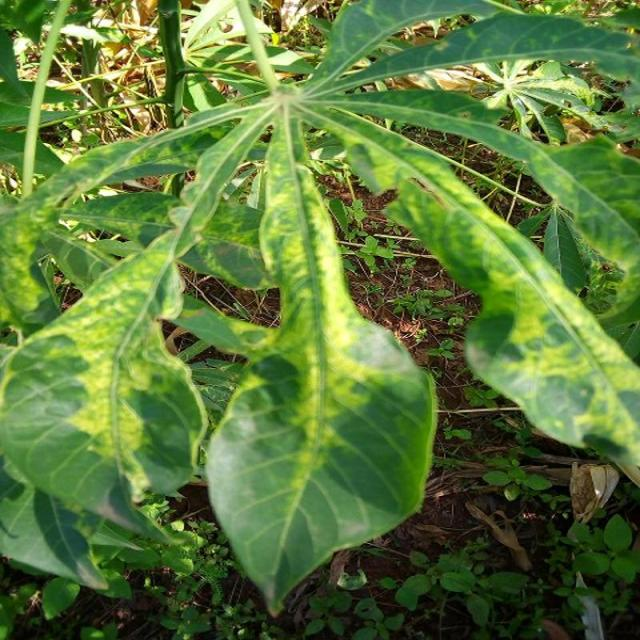cassava leaf: (1, 1, 638, 616), (204, 105, 438, 616)
